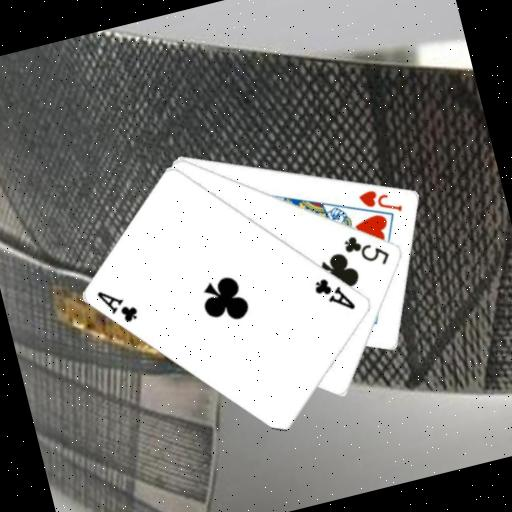5C: (339, 225, 393, 275)
AC: (93, 280, 142, 331), (309, 270, 358, 320)
JH: (354, 180, 406, 222)
